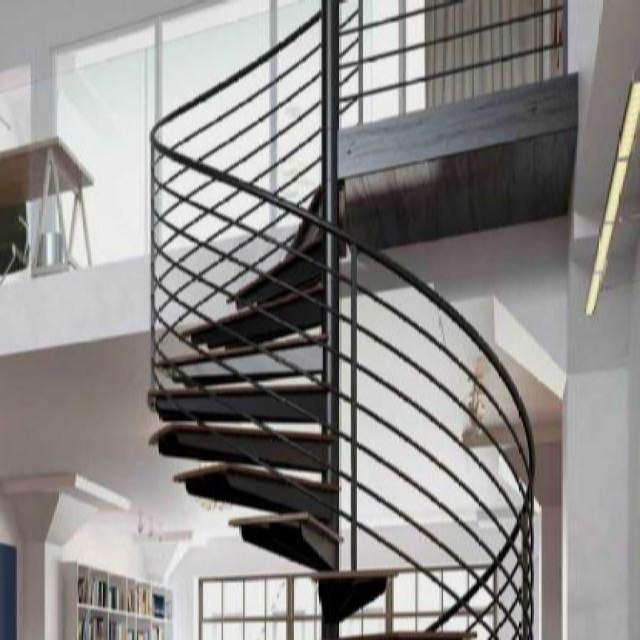stair: (134, 2, 580, 616)
